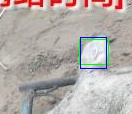text: (79, 39, 108, 64)
